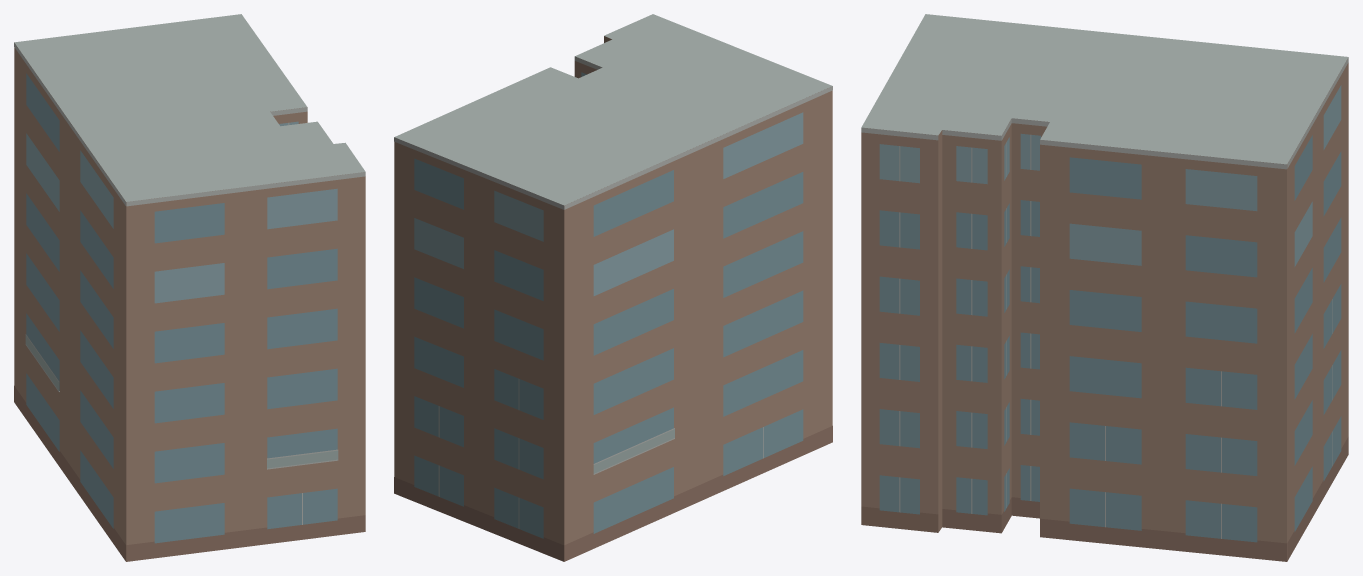
File: survey-upis-32522357.glb
The picture shows the model from 3 angles, left to right: view 1: azimuth 30°, elevation 25°; view 2: azimuth 150°, elevation 25°; view 3: azimuth 270°, elevation 25°; orthographic projection. The views are drawn at different scales.
Parts seen in each view (by area): view 1: survey-upis-32522357.tmp; view 2: survey-upis-32522357.tmp; view 3: survey-upis-32522357.tmp.
Boxes of the visible parts, <box> form: survey-upis-32522357.tmp: <box>14,14,365,561</box>; survey-upis-32522357.tmp: <box>394,14,832,561</box>; survey-upis-32522357.tmp: <box>861,14,1348,561</box>.
Bounding box in the file's own units: 15.84 × 19.5 × 21.68.
